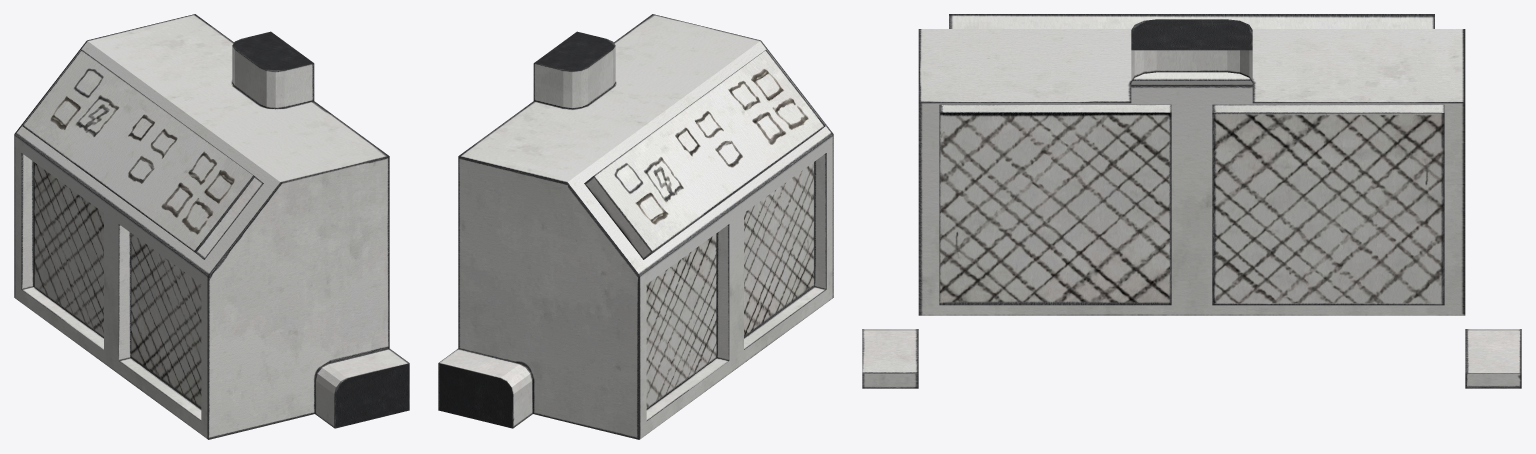
Rendered from Junction.fbx.
3 renders of one model, left to right at view 1: azimuth 30°, elevation 25°; view 2: azimuth 150°, elevation 25°; view 3: azimuth 270°, elevation 25°, orthographic. The views are drawn at different scales.
Visible parts, largest first — view 1: Cube.004; view 2: Cube.004; view 3: Cube.004.
Boxes of the visible parts, x1,y1,x2,y2 form: Cube.004: (14,14,409,439); Cube.004: (438,14,833,439); Cube.004: (862,14,1521,388).
Bounding box in the file's own units: 109 × 157 × 241.
